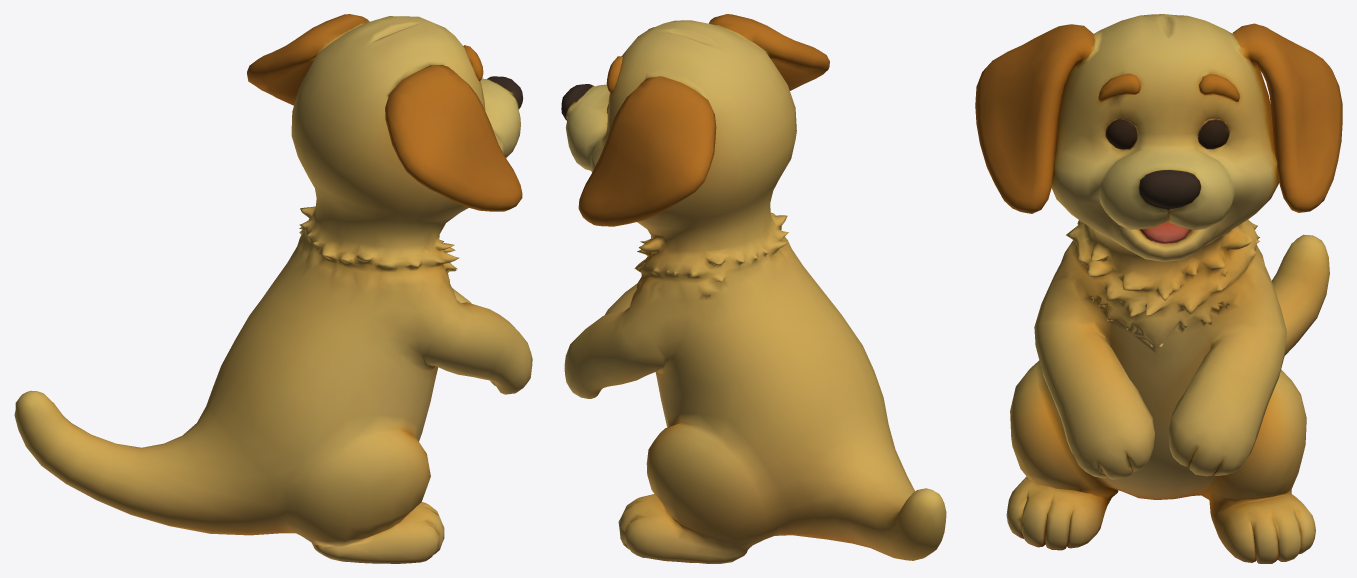
File: dog.glb
3 renders of one model, left to right at view 1: azimuth 30°, elevation 25°; view 2: azimuth 150°, elevation 25°; view 3: azimuth 270°, elevation 25°, orthographic. The views are drawn at different scales.
Visible parts, largest first — view 1: tripo_node_a83086a9-1d45-4401-b775-e5e5610157eb; view 2: tripo_node_a83086a9-1d45-4401-b775-e5e5610157eb; view 3: tripo_node_a83086a9-1d45-4401-b775-e5e5610157eb.
Boxes of the visible parts, box(x1,y1,x2,y2) form: tripo_node_a83086a9-1d45-4401-b775-e5e5610157eb: box(14, 14, 532, 563); tripo_node_a83086a9-1d45-4401-b775-e5e5610157eb: box(561, 14, 946, 563); tripo_node_a83086a9-1d45-4401-b775-e5e5610157eb: box(975, 14, 1342, 563).
Size of the model in its own units: 0.9551 by 0.998 by 0.6191.
1 material, 1 textured.
